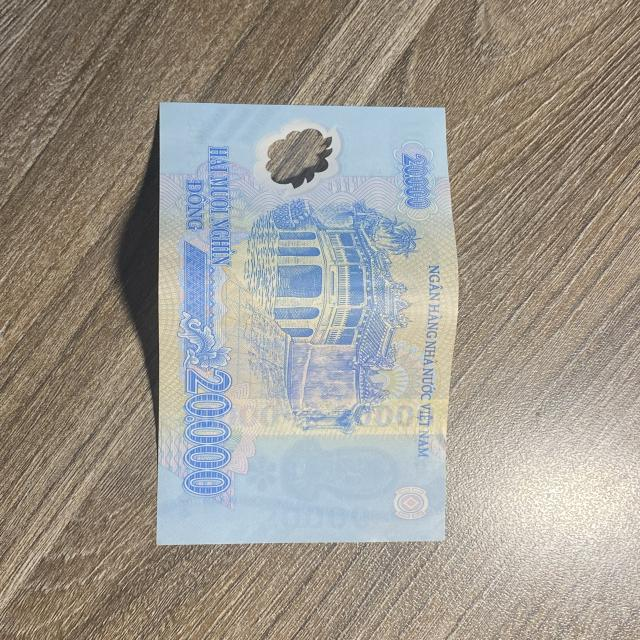20 000 VND: (155, 102, 459, 544)
